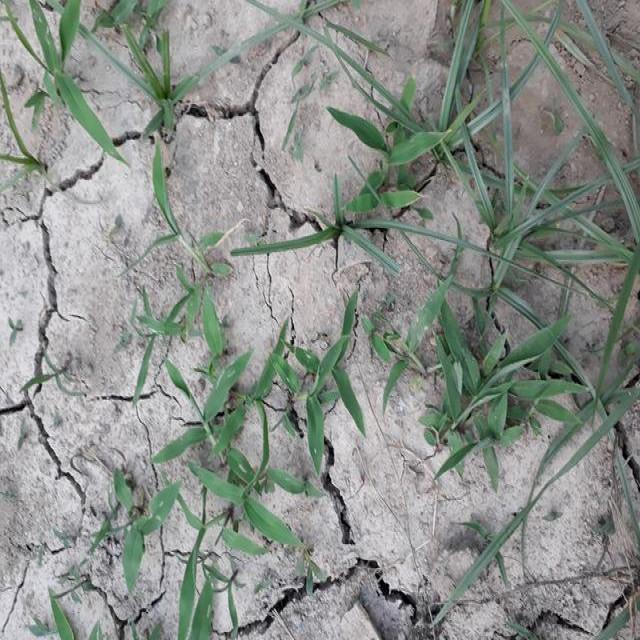weed: (413, 23, 632, 290), (232, 187, 640, 267), (156, 361, 278, 614), (420, 284, 567, 470), (18, 13, 115, 180), (150, 166, 227, 372), (268, 295, 364, 459)
